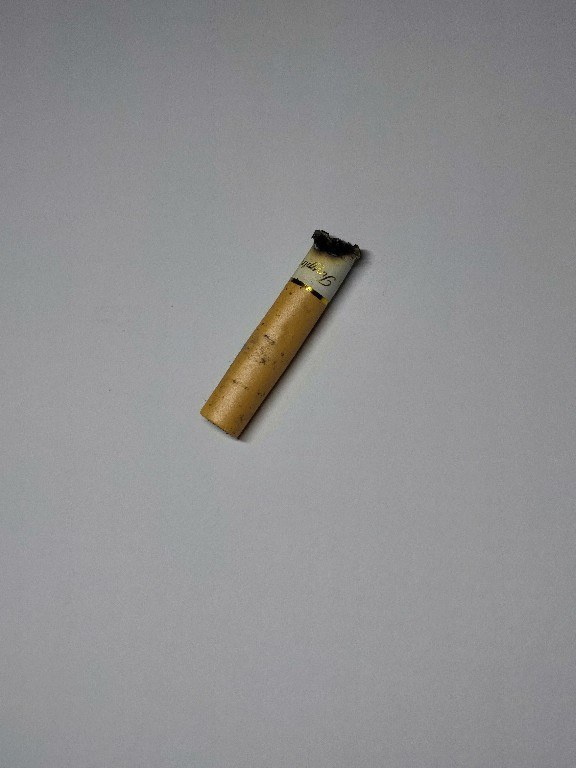cigarette: (198, 225, 369, 442)
